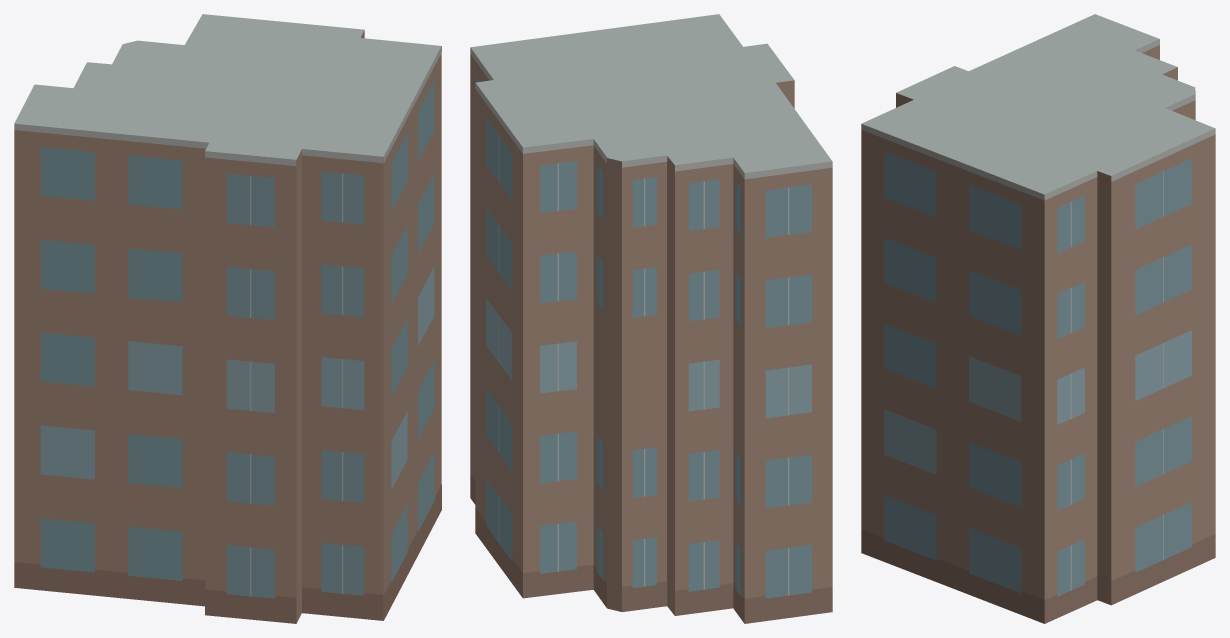
The model's file is survey-upis-32978822.glb.
3 renders of one model, left to right at view 1: azimuth 30°, elevation 25°; view 2: azimuth 150°, elevation 25°; view 3: azimuth 270°, elevation 25°, orthographic. The views are drawn at different scales.
Visible parts, largest first — view 1: survey-upis-32978822.tmp; view 2: survey-upis-32978822.tmp; view 3: survey-upis-32978822.tmp.
Part boxes in pixels (<box>): survey-upis-32978822.tmp: <box>14,14,441,623</box>; survey-upis-32978822.tmp: <box>470,14,832,623</box>; survey-upis-32978822.tmp: <box>861,14,1215,623</box>.
Size of the model in its own units: 15.95 by 17.67 by 13.22.
